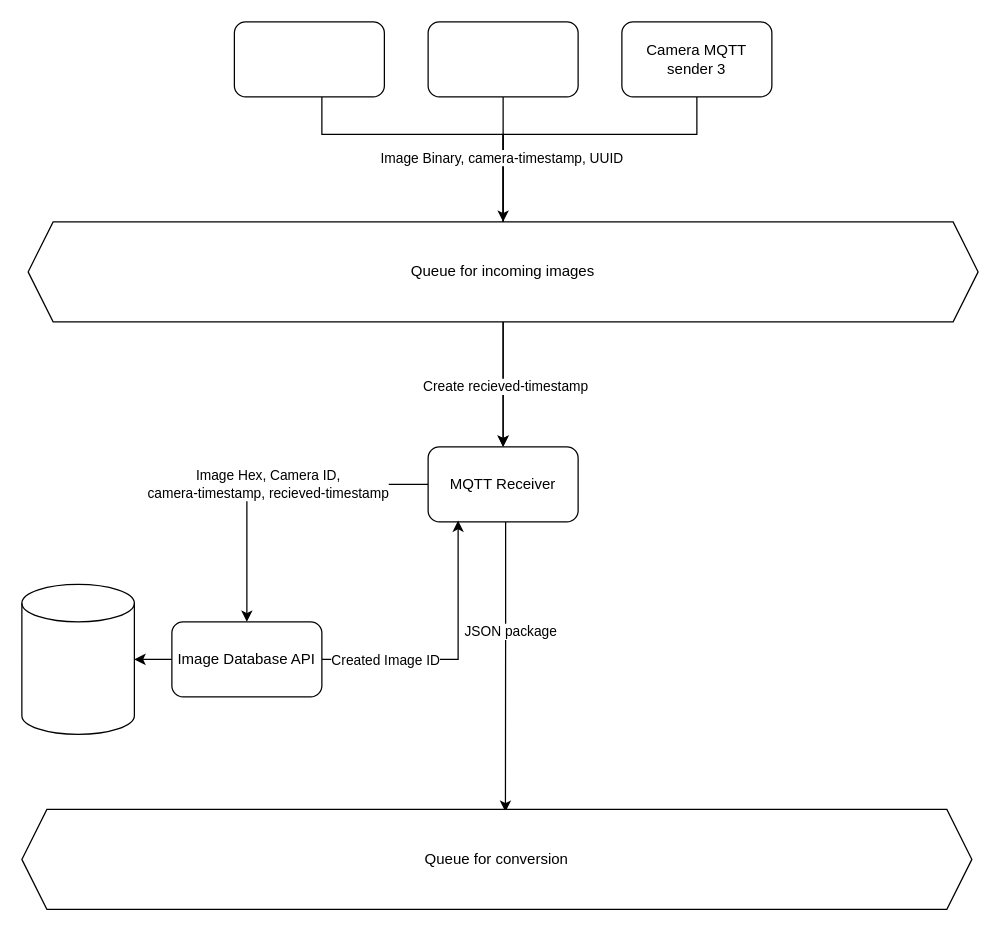
The diagram is 1000 pixels wide and 931 high, and some of its shapes have lost their labels. The shapes that lost their labels are listed below. From the top down, each one's box as (x1, y1, x2, y2) in pixels, then its label:
(233, 21, 384, 97): Camera MQTT sender 1
(427, 21, 578, 97): Camera MQTT sender 2
(21, 583, 134, 734): MYSQL Database
